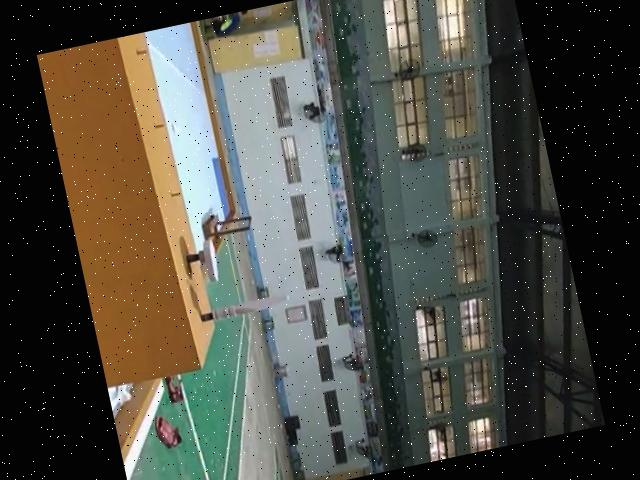Hand: (180, 239, 221, 290)
Sph: (199, 292, 288, 323)
